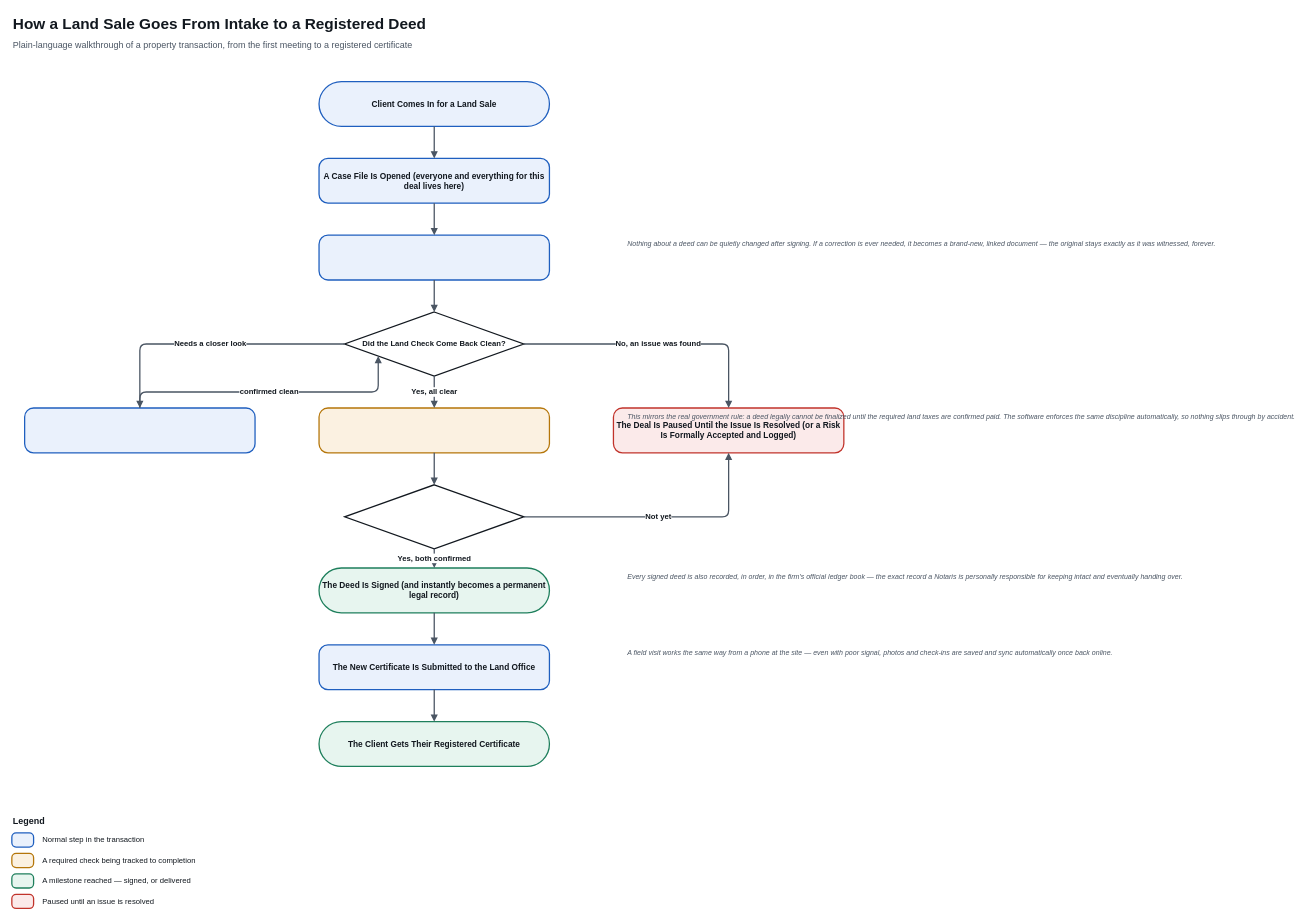
Image size: 1306x921. Some labels were removed from this diagram. Here are the shapes that lost their labels. From the top down, the centre of each, then its label:
At pixel 434 257: "The Land Is Checked (certificate valid, taxes paid, no disputes)".
At pixel 139 430: "A Field Visit Confirms It On-Site, With Photos and GPS".
At pixel 434 430: "The Buyer and Seller's Land Taxes Are Tracked to Confirmed Payment".
At pixel 434 516: "Are Both Taxes Confirmed Paid?".
